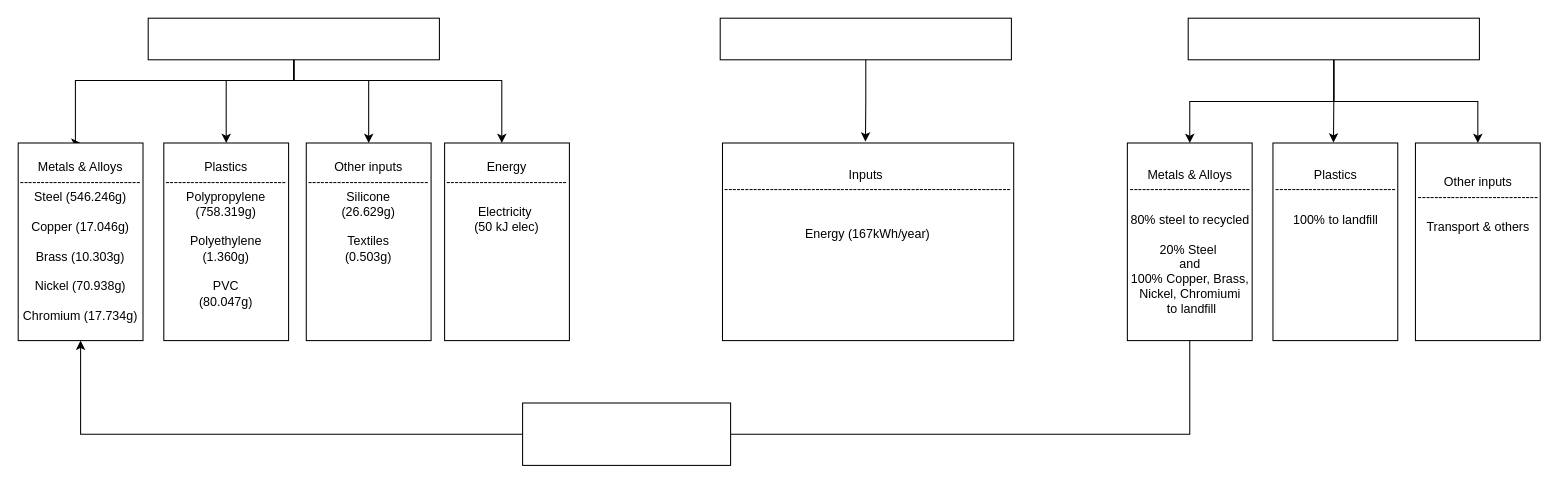
This 1559x492 diagram has some shape labels left out. Here are the shapes that lost their labels. From the top down, the centre of each, then its label:
[293,38]: Materials
[865,38]: Useage Stage
[1333,38]: End of Life
[626,433]: Scrap Steel
